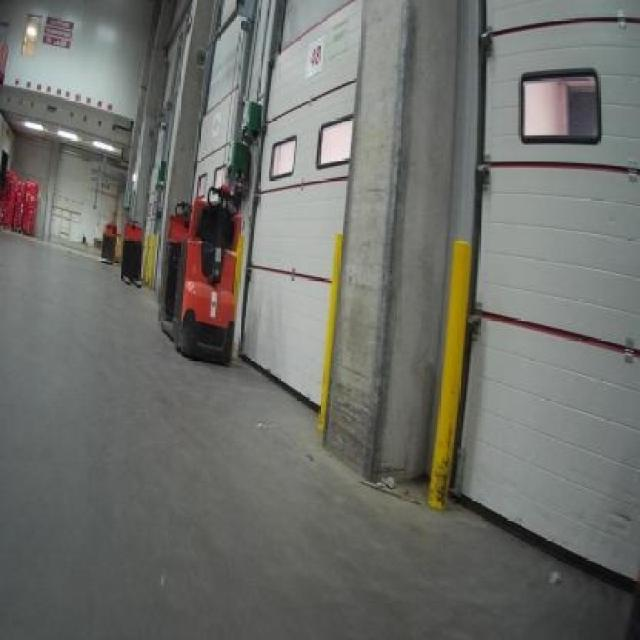floor: (0, 231, 629, 637)
pallets: (157, 186, 237, 362)
